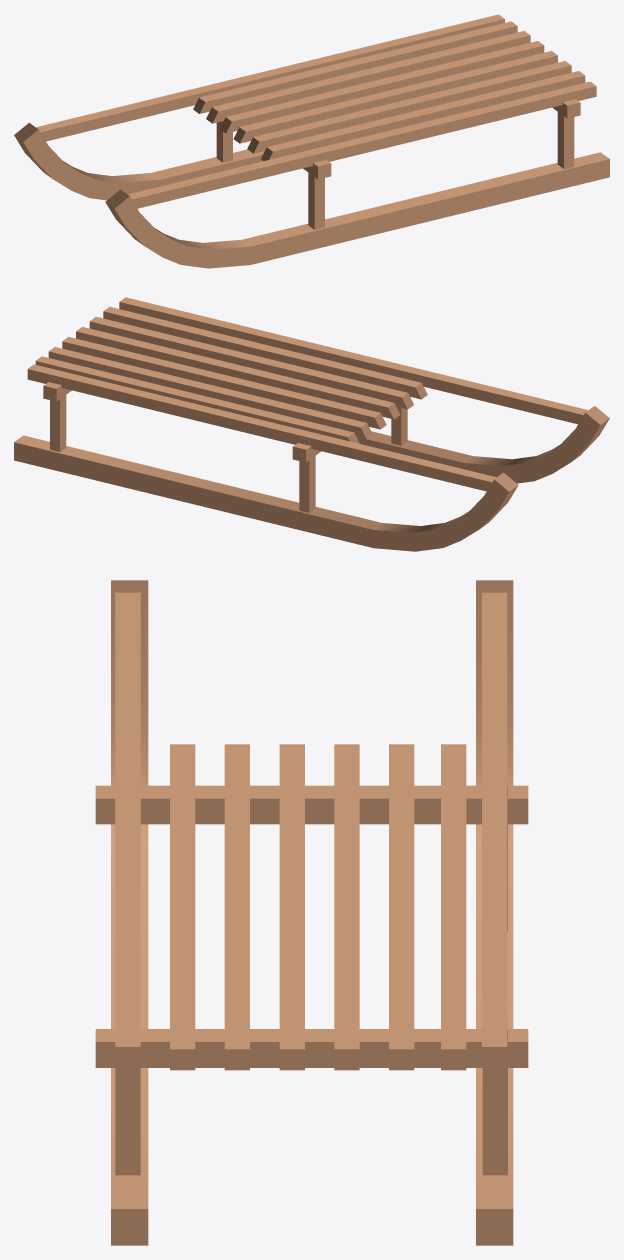
Rendered from 4b760b06-363c-4734-b027-3e1807cef6d1.glb.
3 renders of one model, top to bottom at view 1: azimuth 30°, elevation 25°; view 2: azimuth 150°, elevation 25°; view 3: azimuth 270°, elevation 25°, orthographic. The views are drawn at different scales.
Parts seen in each view (by area): view 1: Box009; view 2: Box009; view 3: Box009.
Boxes of the visible parts, bbox=[...] form: Box009: bbox=[14, 14, 609, 268]; Box009: bbox=[14, 297, 609, 551]; Box009: bbox=[95, 580, 528, 1245].
Size of the model in its own units: 113 by 21.34 by 42.55.
